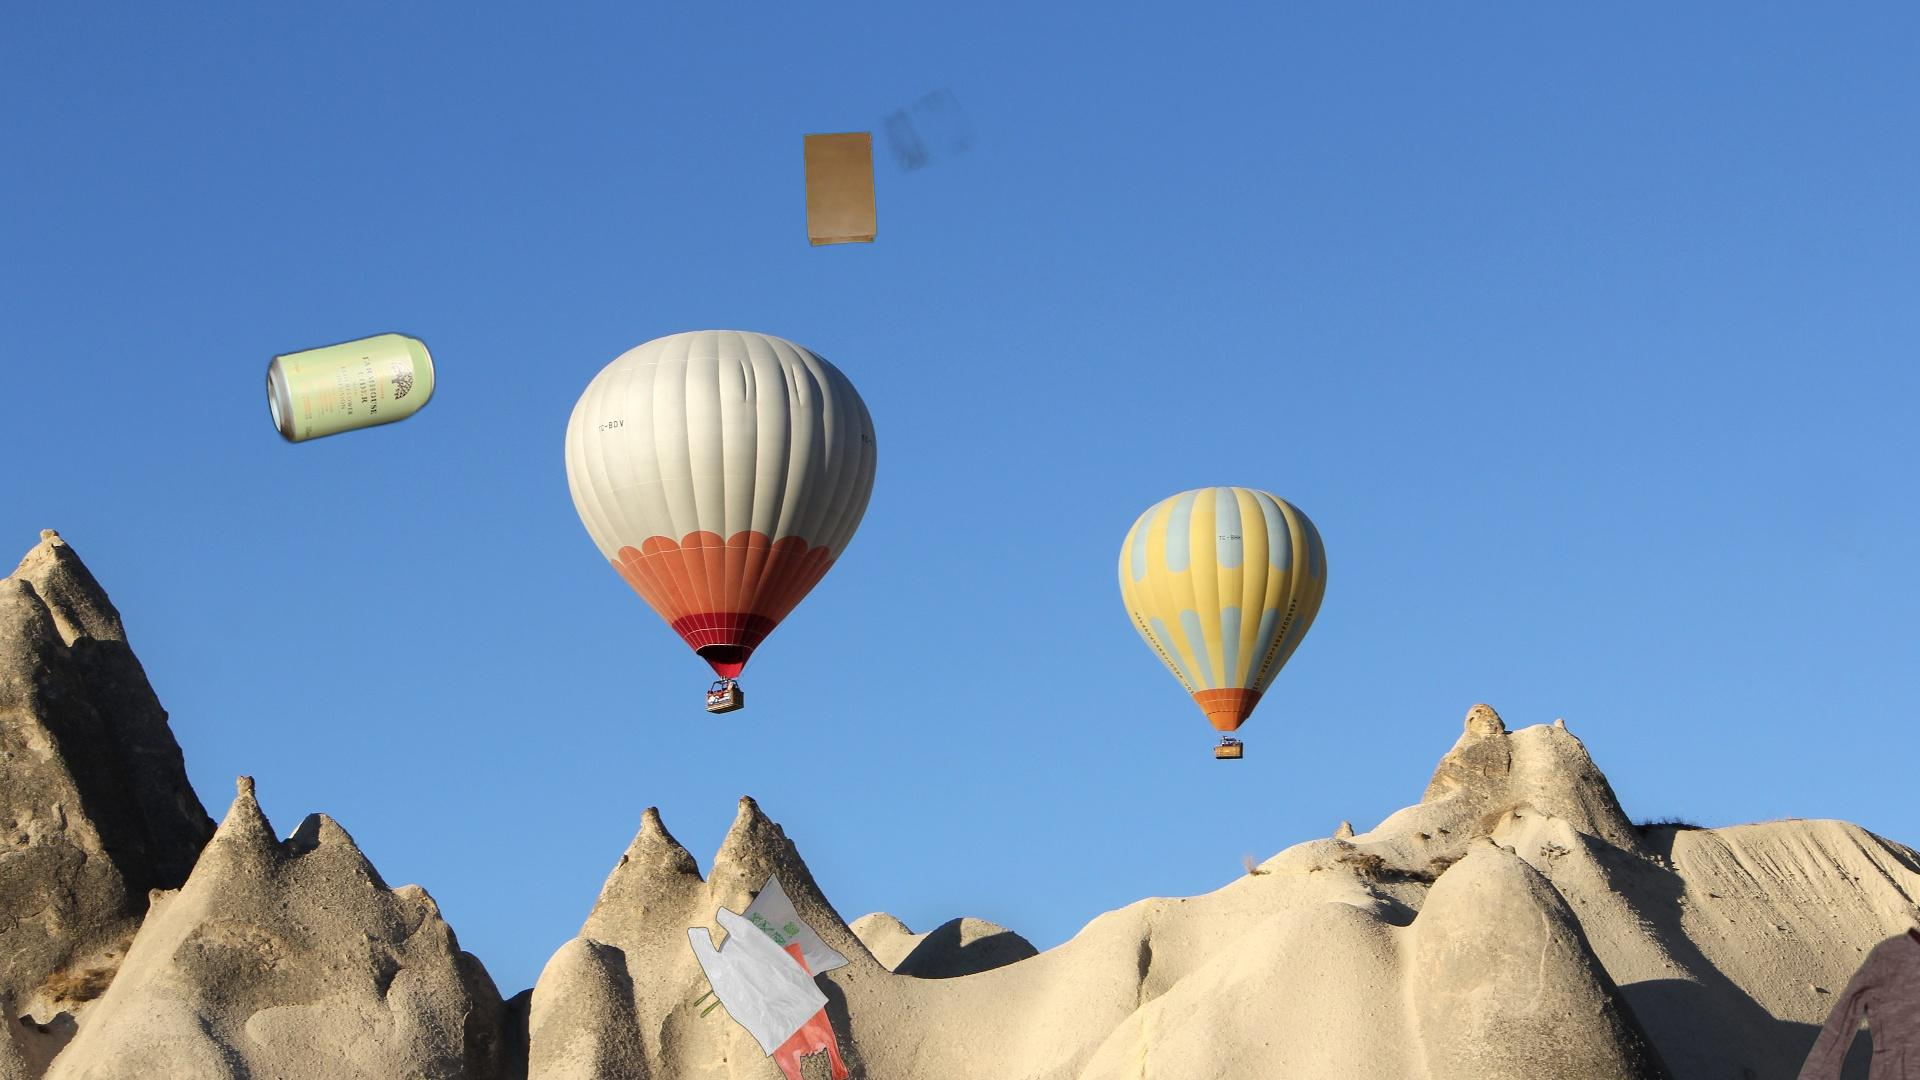clothes: (1769, 918, 1920, 1080)
metal-cans: (262, 326, 439, 449)
paper-bag: (801, 84, 979, 249)
plastic-bag: (684, 869, 853, 1080)
